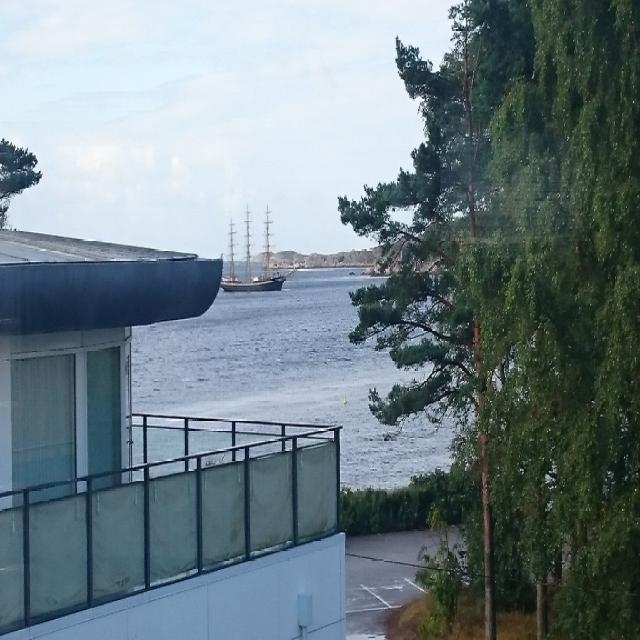Boat: (218, 200, 286, 290)
